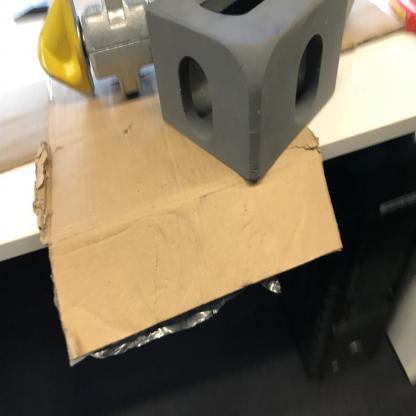CornerCasting: (143, 0, 352, 185)
Twistlock: (34, 0, 170, 115)
